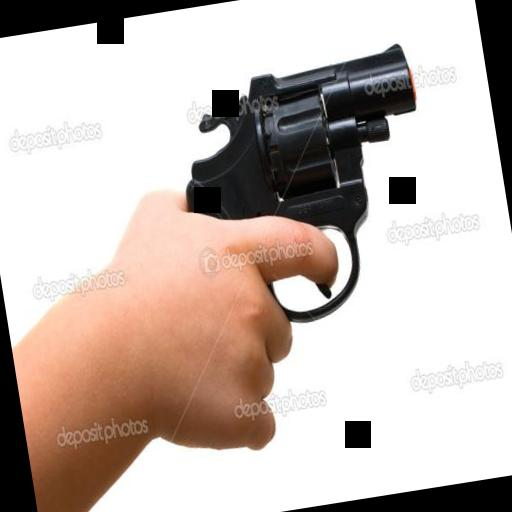Handgun: (133, 30, 471, 458)
